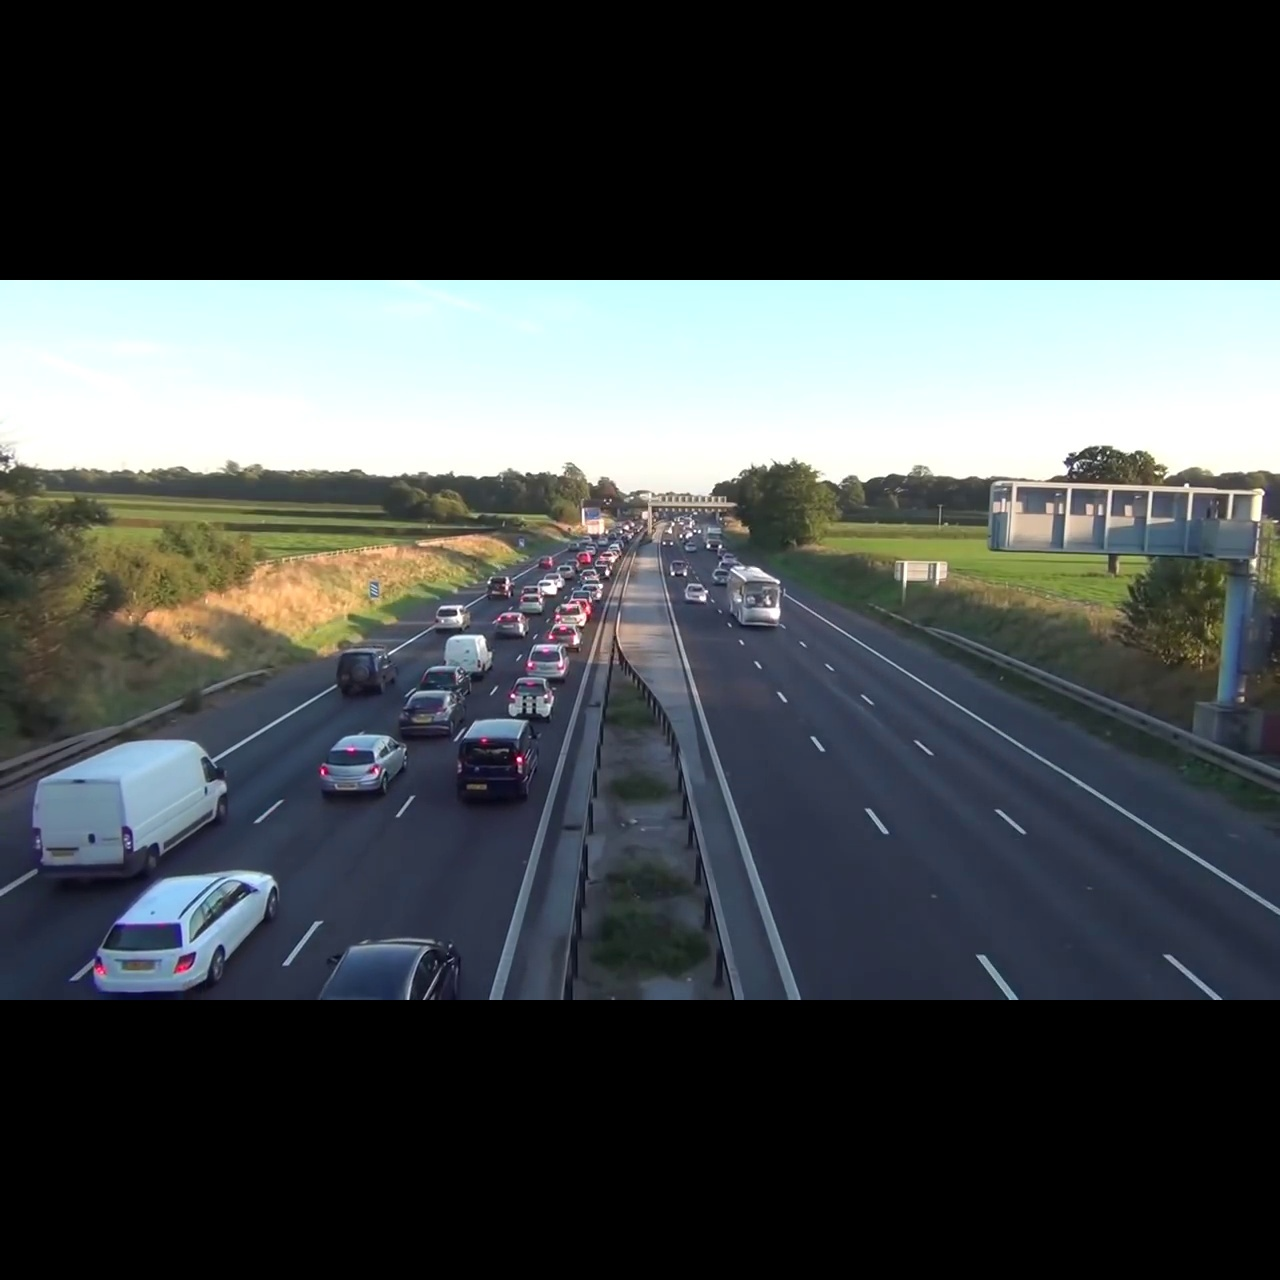vehicle: (30, 735, 236, 883), (91, 859, 288, 998), (316, 930, 469, 999), (457, 719, 544, 804), (318, 731, 411, 801), (728, 565, 787, 631), (334, 644, 399, 697), (399, 690, 468, 736), (508, 676, 557, 720), (444, 634, 493, 668), (527, 644, 570, 678), (434, 604, 472, 633), (421, 668, 472, 689)
